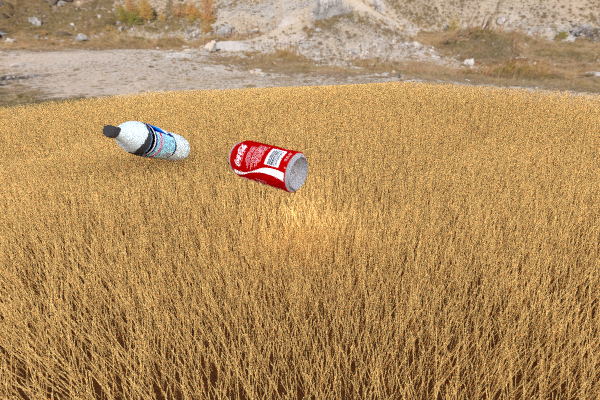bottle: (102, 121, 190, 161)
can: (228, 140, 307, 192), (400, 94, 441, 114)
